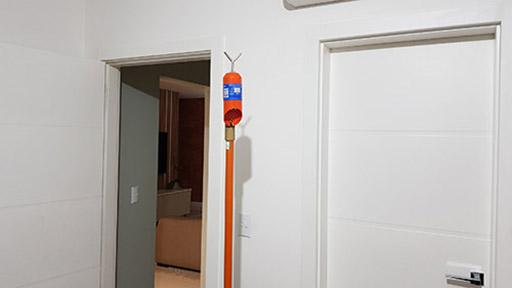Detector_Tensao_Contato: (221, 50, 243, 129)
Vara_Manobra: (222, 124, 236, 288)
